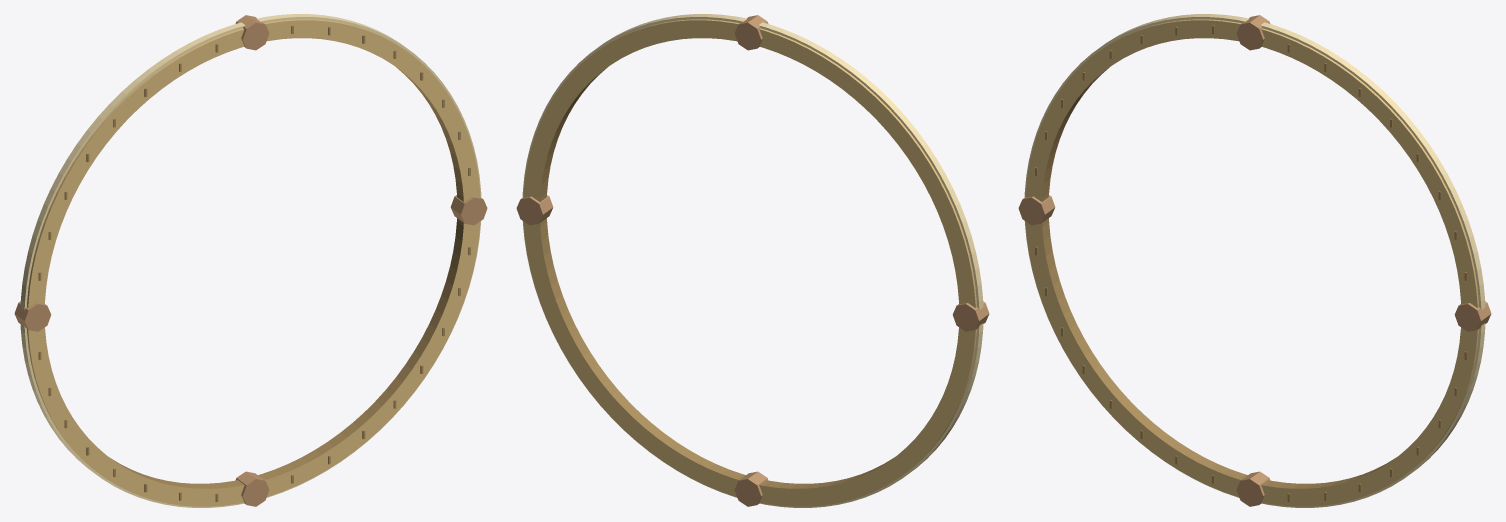
The model's file is Ring1.obj.
3 views of the same model, side by side, from view 1: azimuth 30°, elevation 25°; view 2: azimuth 150°, elevation 25°; view 3: azimuth 330°, elevation 25° (orthographic).
Visible parts, largest first — view 1: Ring1; view 2: Ring1; view 3: Ring1.
Boxes of the visible parts, x1,y1,x2,y2 form: Ring1: (14, 14, 487, 507); Ring1: (516, 14, 989, 507); Ring1: (1018, 14, 1491, 507).
Size of the model in its own units: 23.34 by 23.34 by 0.9.
1 material, 1 textured.
